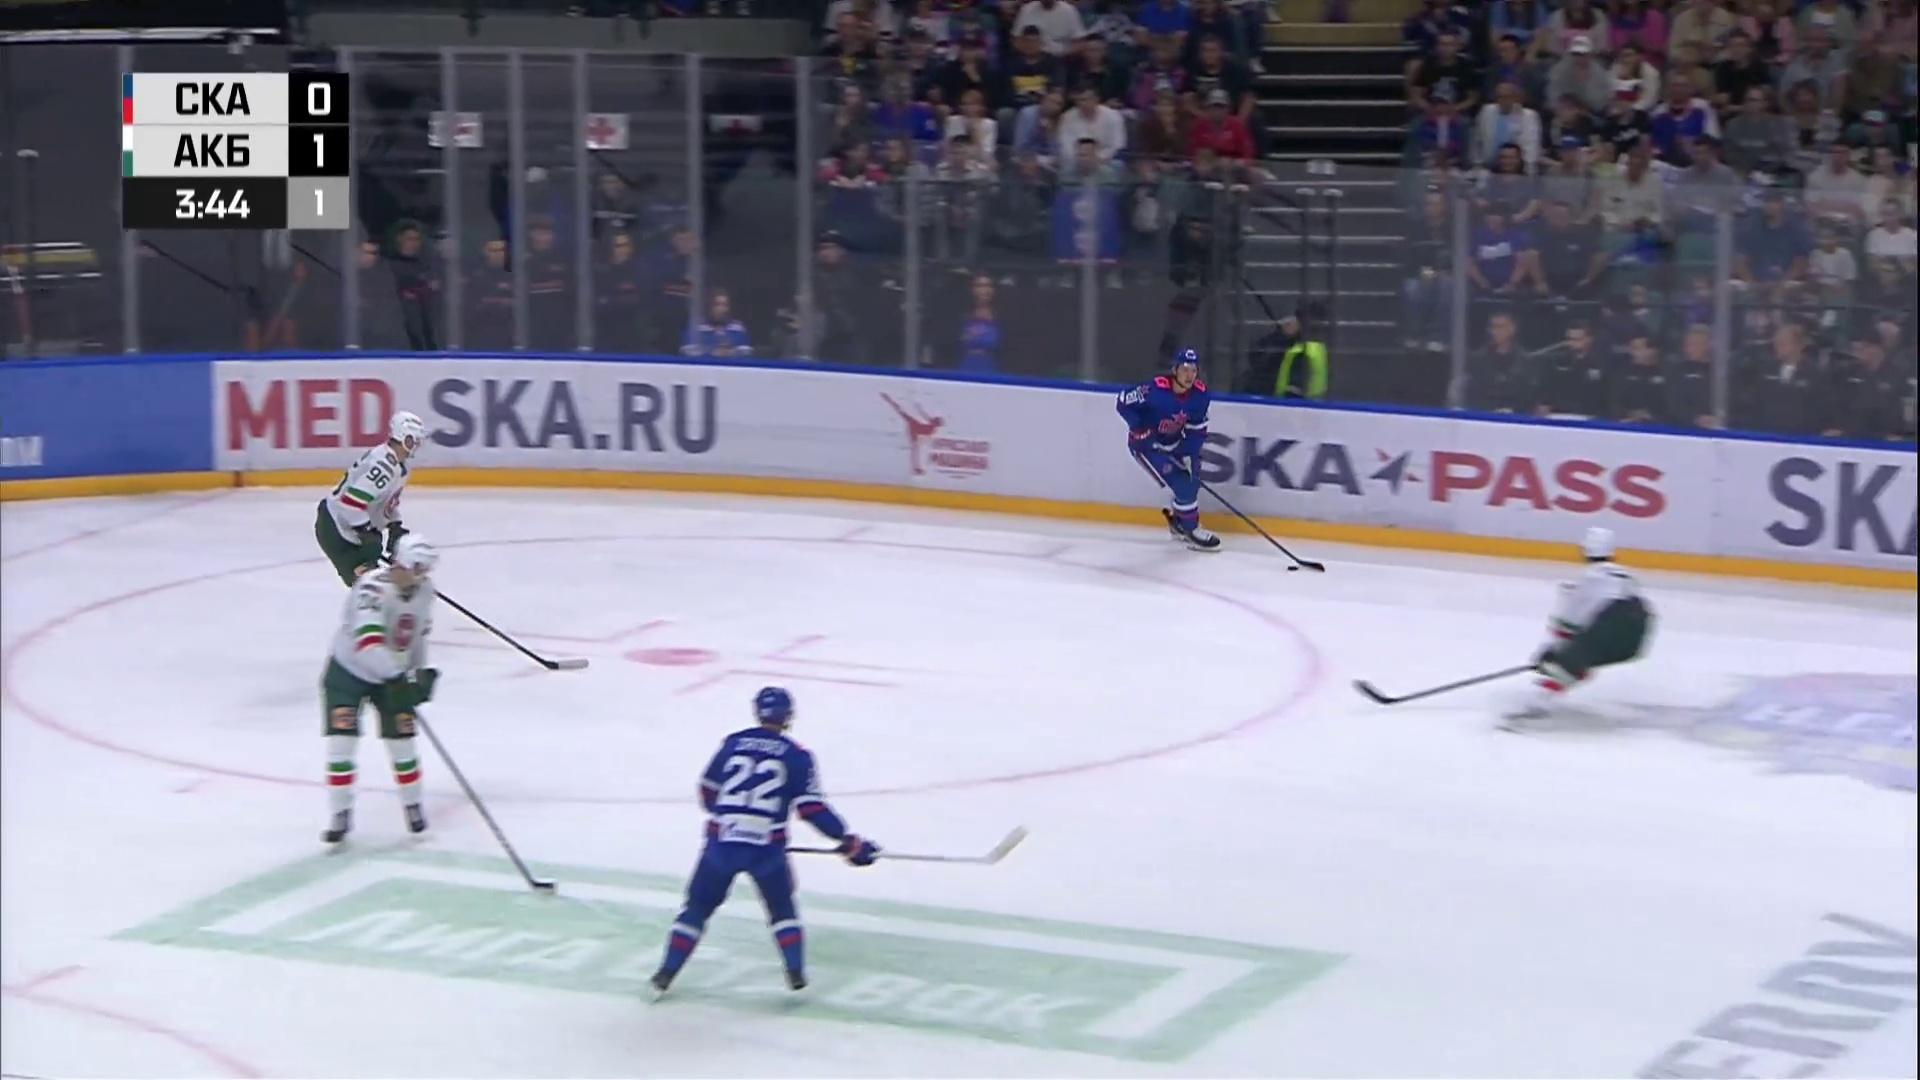ball: (1287, 566, 1299, 571)
